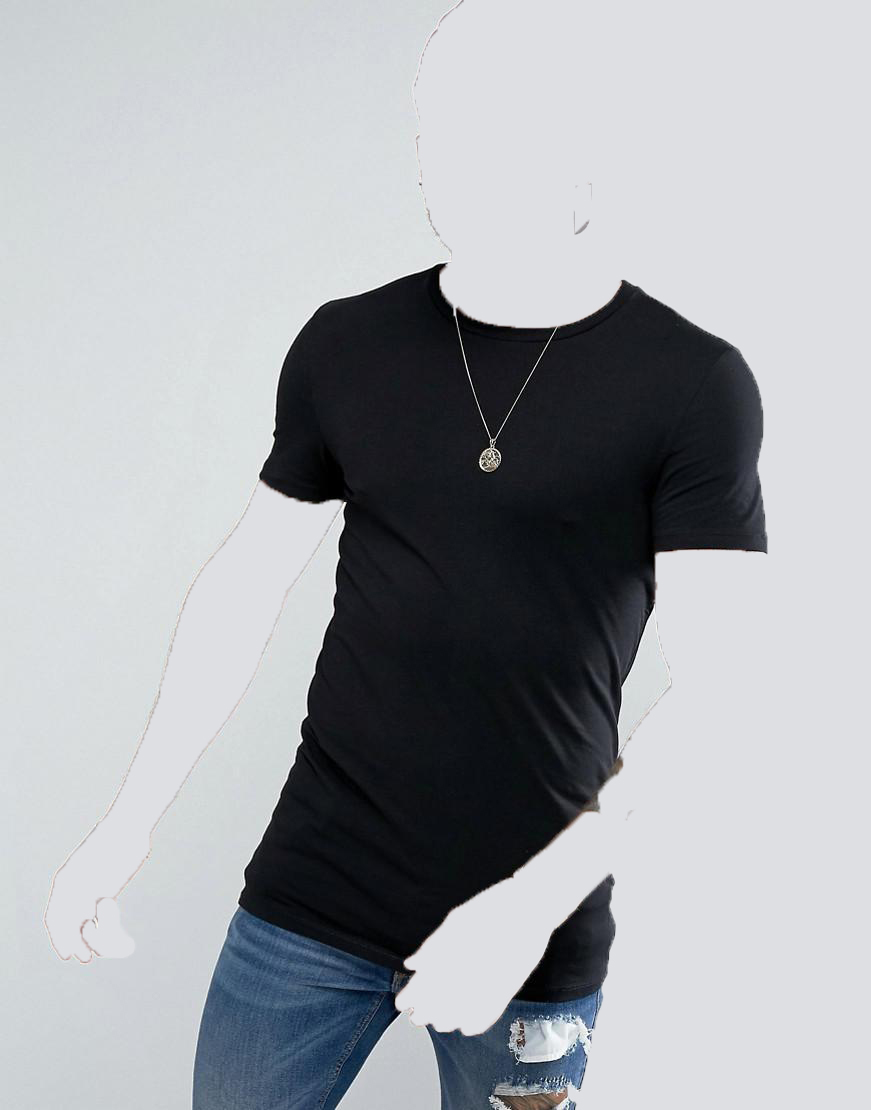teeshirt: (247, 261, 773, 1013)
